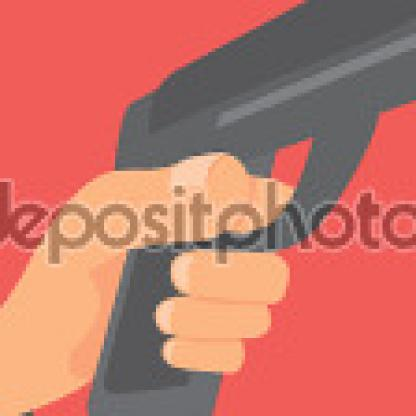gun: (29, 0, 413, 413)
